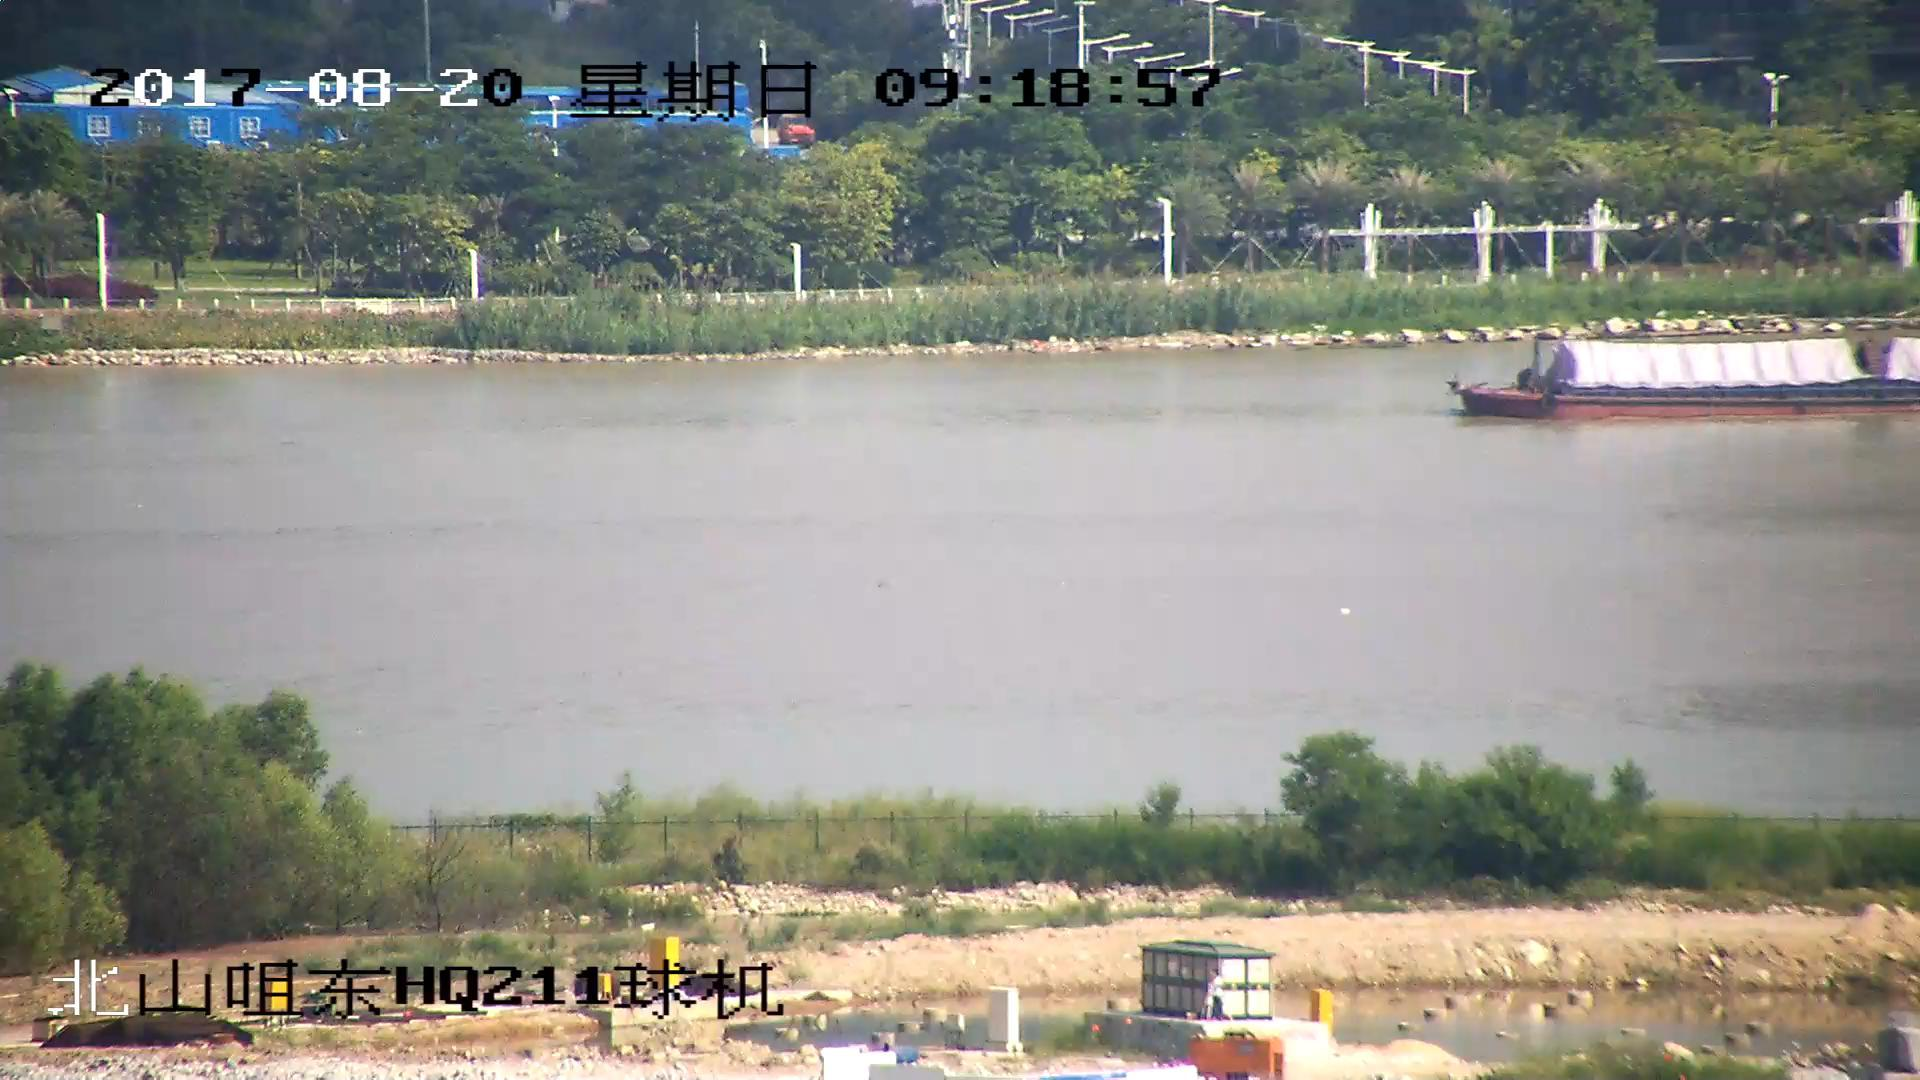Ship: (1456, 338, 1920, 419)
